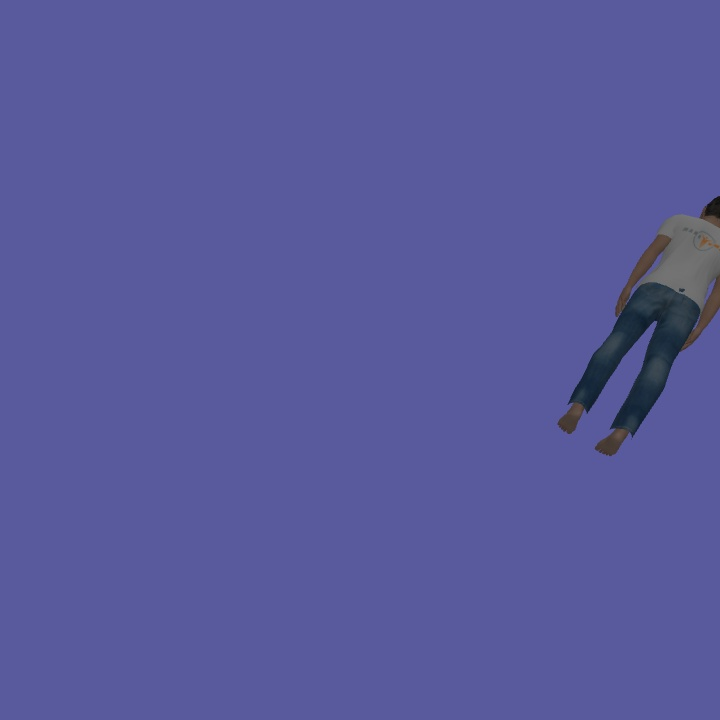victim: (556, 187, 720, 458)
